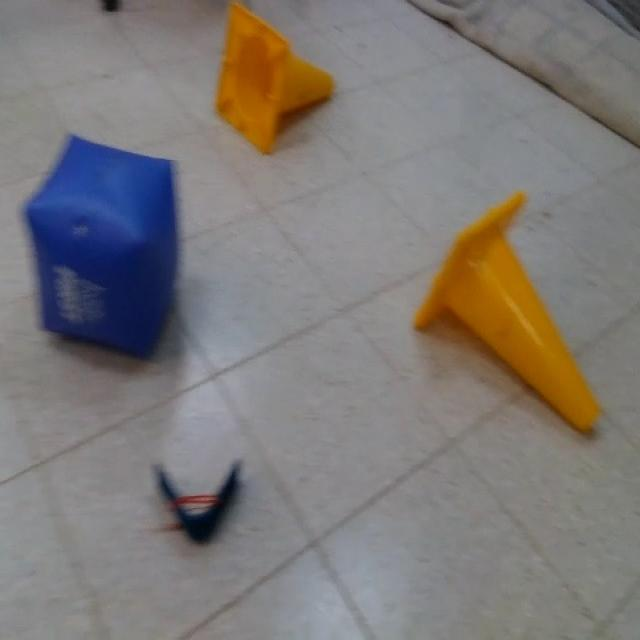cone: (417, 188, 602, 434), (216, 0, 334, 153)
cube: (24, 132, 182, 357)
